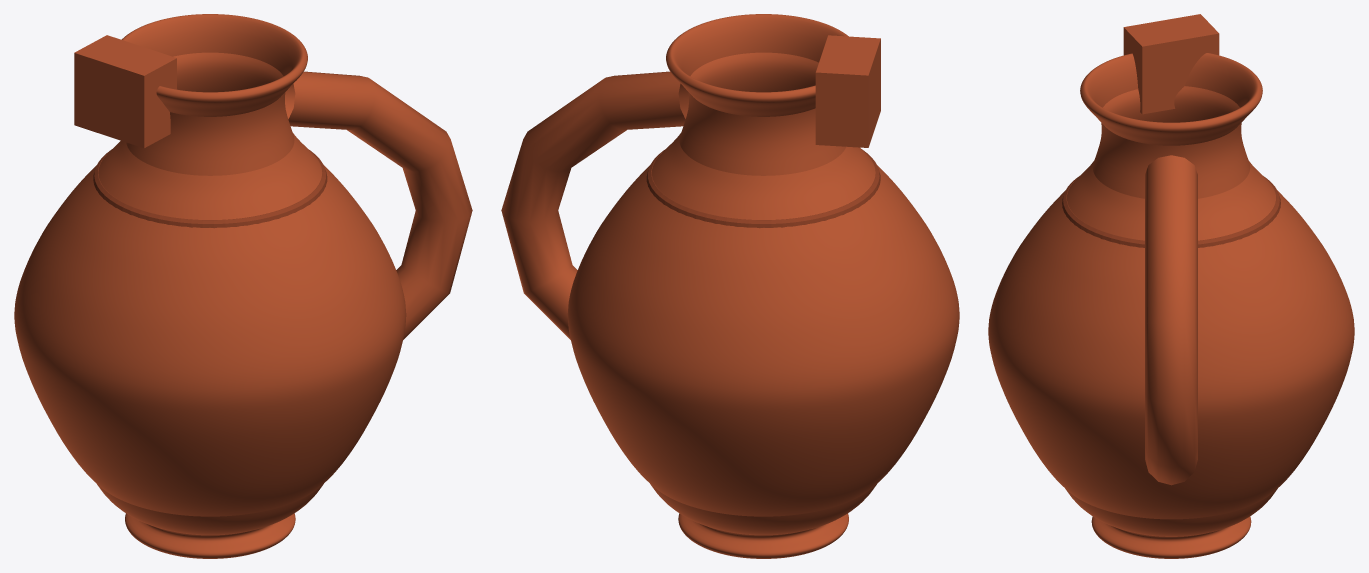
The model's file is 21_terracotta_jug.fbx.
3 renders of one model, left to right at view 1: azimuth 30°, elevation 25°; view 2: azimuth 150°, elevation 25°; view 3: azimuth 270°, elevation 25°, orthographic. The views are drawn at different scales.
Visible parts, largest first — view 1: JugBody, JugHandle, JugSpout, JugBand; view 2: JugBody, JugHandle, JugSpout, JugBand; view 3: JugBody, JugHandle, JugSpout, JugBand.
Part boxes in pixels (box(x1,y1,x2,y2)): JugBody: box(14, 14, 406, 558); JugHandle: box(285, 71, 472, 339); JugSpout: box(74, 35, 176, 148); JugBand: box(93, 149, 327, 228); JugBody: box(567, 14, 959, 558); JugHandle: box(501, 71, 688, 339); JugSpout: box(815, 35, 880, 147); JugBand: box(646, 149, 880, 228); JugBody: box(988, 53, 1354, 558); JugHandle: box(1145, 155, 1197, 485); JugSpout: box(1123, 14, 1219, 114); JugBand: box(1062, 176, 1280, 247).
Size of the model in its own units: 0.2783 by 0.3058 by 0.2205.
